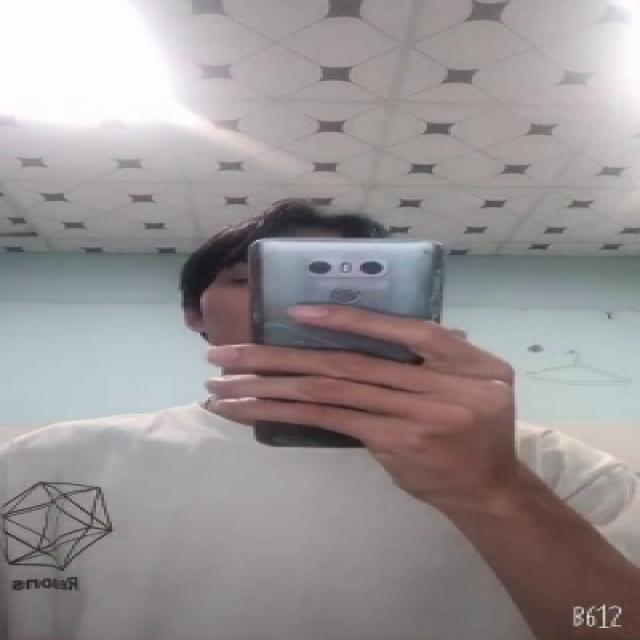Phone: (249, 236, 448, 451)
